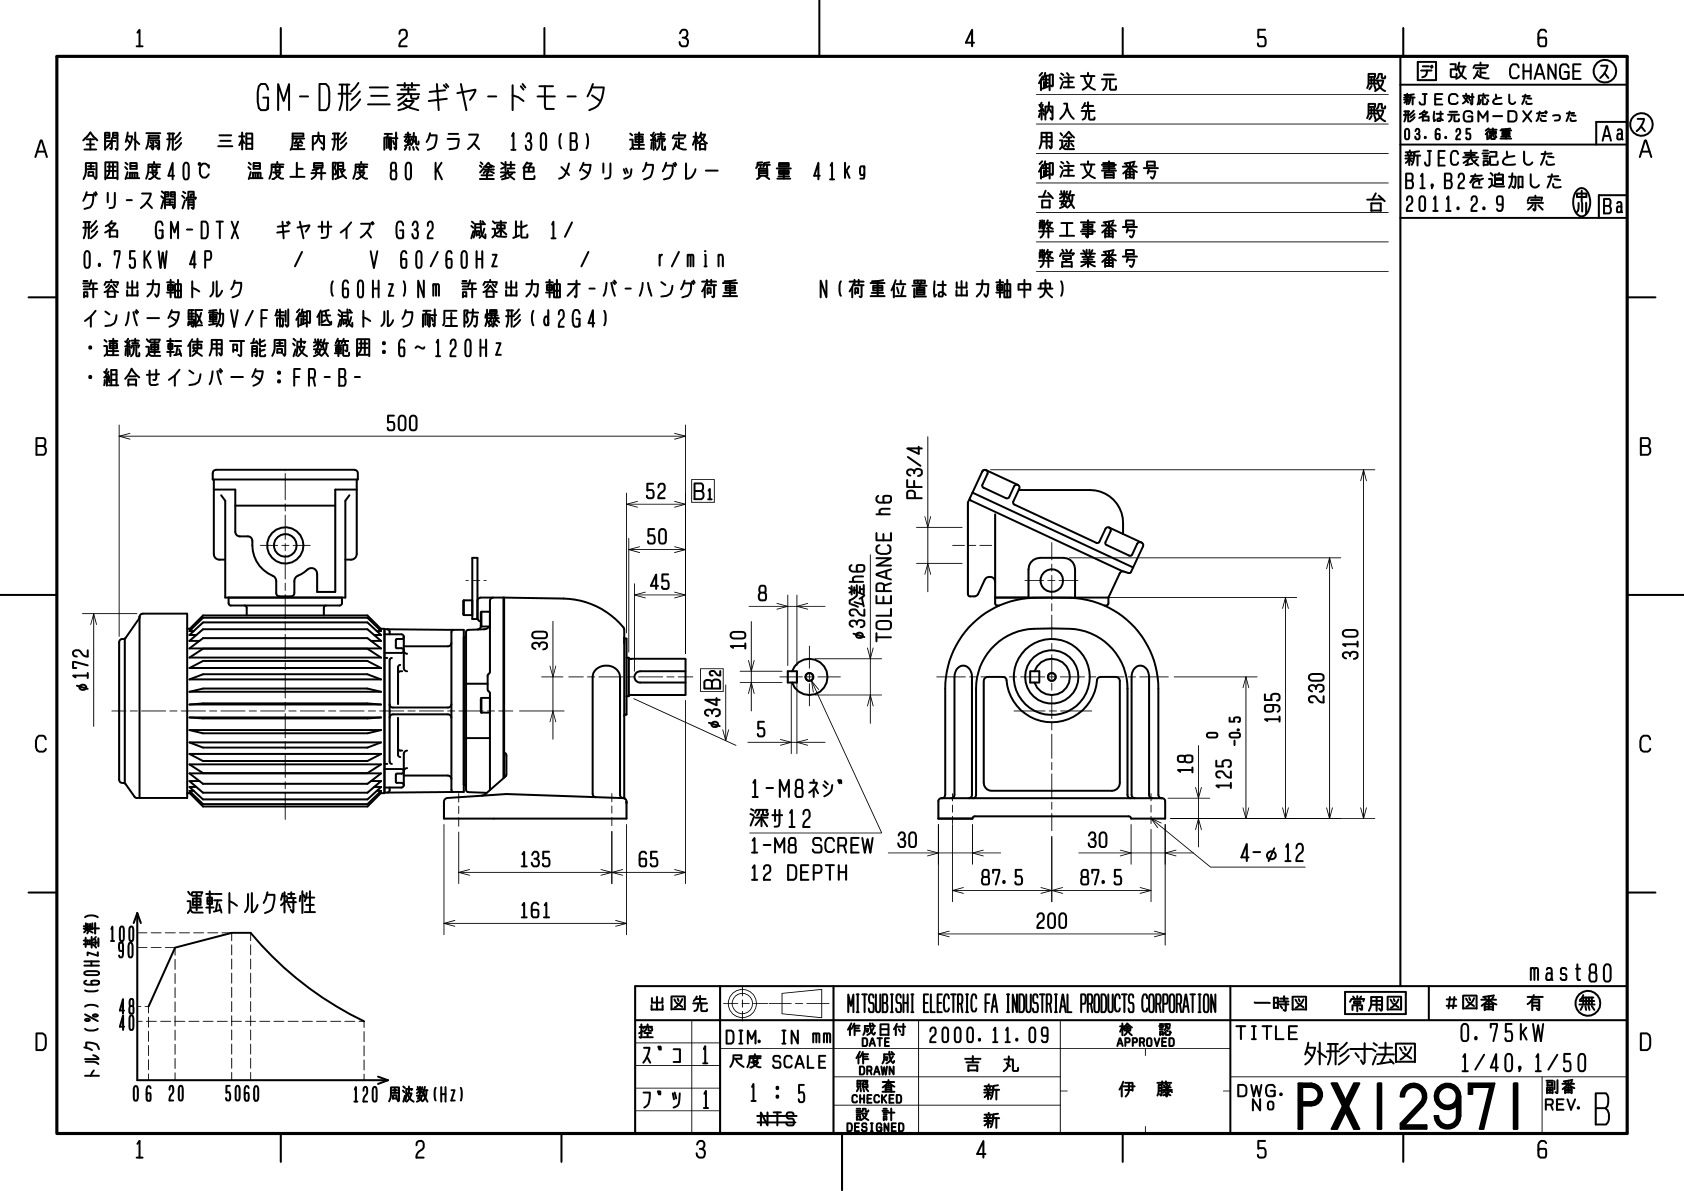GM_D_制御屋内_三相_脚: (1, 1, 1669, 1179)
